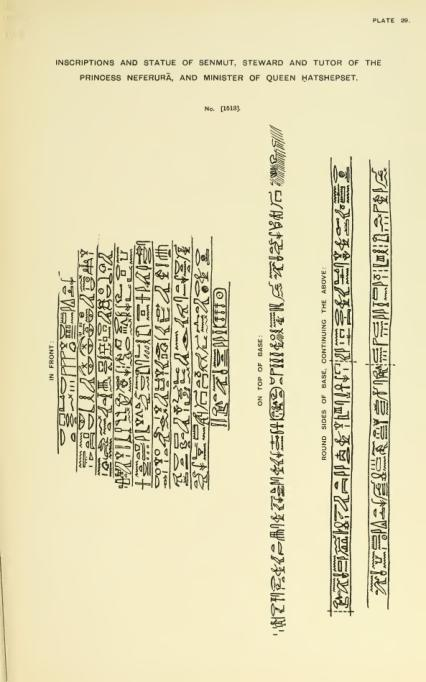circle: (267, 385, 288, 423), (211, 285, 229, 329)
